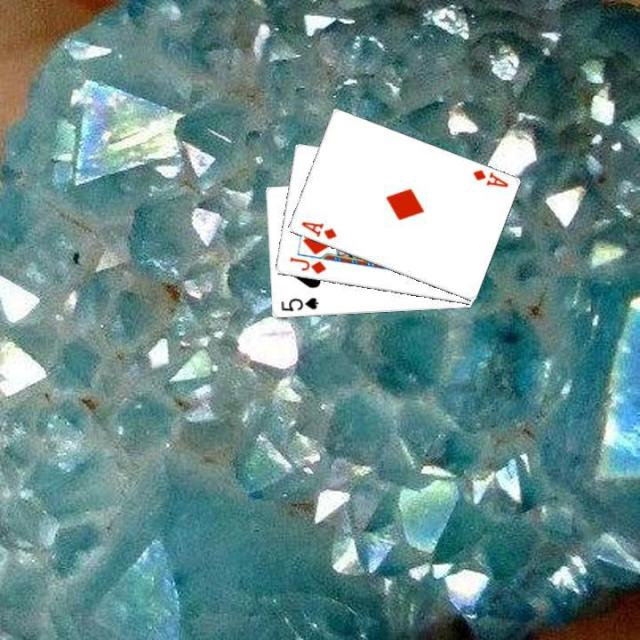5S: (276, 294, 320, 313)
AD: (297, 218, 338, 242), (468, 166, 509, 190)
JD: (285, 254, 328, 276)
